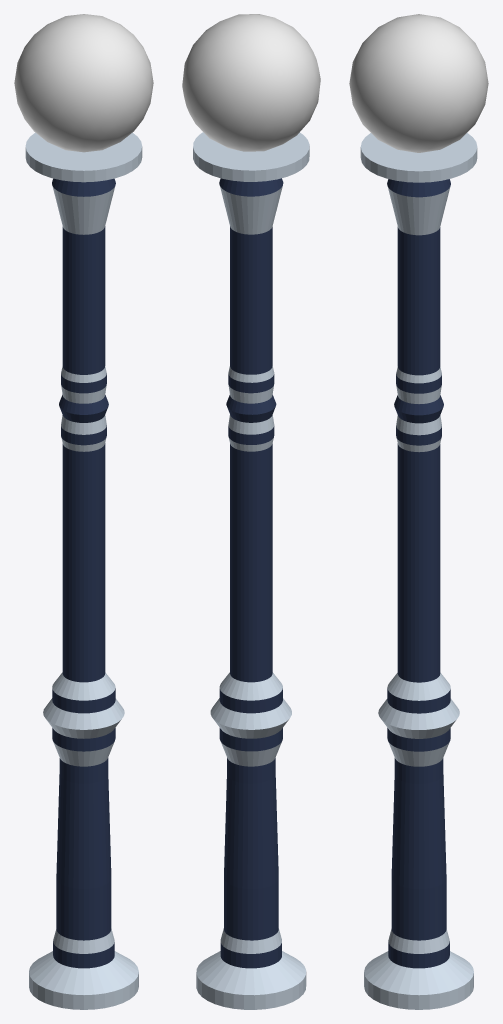
The model's file is LampPostModel02.fbx.
3 views of the same model, side by side, from view 1: azimuth 90°, elevation 25°; view 2: azimuth 150°, elevation 25°; view 3: azimuth 270°, elevation 25° (orthographic).
Parts seen in each view (by area): view 1: LampPost02; view 2: LampPost02; view 3: LampPost02.
Part boxes in pixels (left/top/right/bottom): LampPost02: left=14, top=14, right=153, bottom=1009; LampPost02: left=182, top=14, right=320, bottom=1009; LampPost02: left=349, top=14, right=488, bottom=1009.
Size of the model in its own units: 94.95 by 727 by 94.95.
